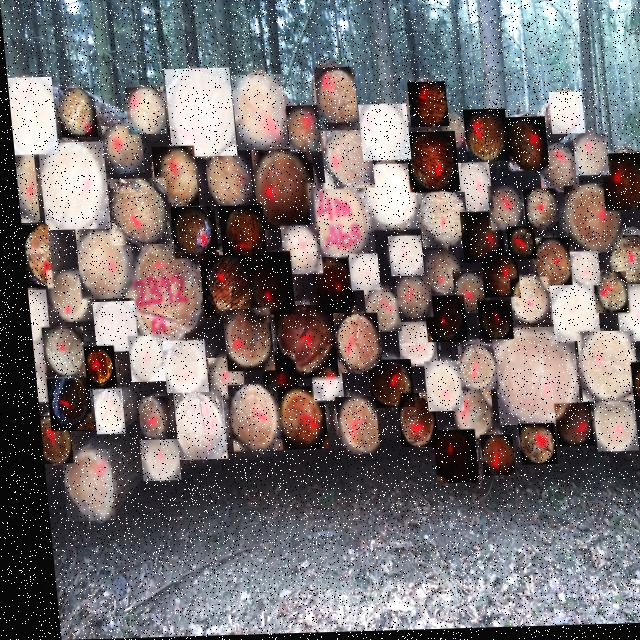wood-log: (484, 329, 574, 428), (119, 244, 200, 349), (163, 69, 234, 159), (35, 142, 107, 230), (248, 150, 314, 232), (304, 184, 372, 259), (267, 306, 331, 382), (569, 334, 632, 405), (229, 76, 286, 152), (104, 178, 167, 246), (71, 229, 130, 300), (559, 188, 618, 256), (6, 77, 56, 155), (52, 450, 106, 522), (358, 166, 416, 233), (166, 393, 221, 461), (220, 386, 274, 455), (266, 387, 320, 451), (194, 256, 248, 320), (402, 134, 457, 195), (216, 309, 268, 373), (318, 132, 371, 191), (241, 253, 289, 317), (356, 106, 408, 163), (414, 195, 465, 252), (327, 315, 375, 375), (148, 147, 195, 208), (544, 288, 594, 345), (202, 156, 249, 212), (327, 398, 371, 456), (166, 207, 214, 260), (39, 378, 85, 433), (597, 156, 640, 214), (424, 432, 470, 486), (501, 120, 546, 175), (305, 261, 350, 316), (312, 69, 356, 125), (214, 206, 262, 257), (41, 270, 87, 323), (155, 341, 201, 394), (460, 112, 506, 164), (86, 302, 132, 353), (360, 361, 407, 410), (455, 215, 500, 266), (35, 327, 80, 378), (389, 395, 430, 450), (585, 405, 629, 455), (443, 392, 486, 442), (527, 240, 570, 289), (534, 146, 576, 196), (416, 363, 456, 414), (504, 280, 547, 327), (418, 298, 461, 345), (99, 126, 141, 174), (276, 227, 317, 276), (56, 88, 96, 138), (17, 225, 48, 289), (123, 87, 164, 135), (405, 84, 447, 130), (450, 346, 491, 393), (601, 238, 640, 287), (452, 165, 490, 215), (390, 324, 431, 370), (11, 149, 36, 223), (418, 252, 458, 298), (609, 287, 640, 345), (284, 107, 322, 154), (121, 336, 158, 383), (131, 440, 172, 482), (475, 256, 514, 300), (546, 406, 585, 450), (358, 288, 395, 334), (509, 426, 548, 468), (447, 274, 485, 317), (201, 358, 238, 401), (484, 188, 519, 233), (32, 415, 64, 464), (85, 389, 119, 435), (518, 191, 555, 233), (569, 137, 606, 179), (130, 397, 165, 441), (254, 357, 291, 398), (390, 279, 427, 320), (587, 275, 623, 317), (546, 95, 582, 137), (383, 238, 419, 279), (471, 437, 506, 479), (471, 303, 507, 343), (77, 346, 110, 389), (26, 344, 50, 402), (22, 290, 44, 344), (343, 256, 375, 293), (303, 368, 336, 403), (564, 255, 595, 289), (501, 229, 532, 263), (623, 365, 640, 413), (636, 195, 640, 249)
